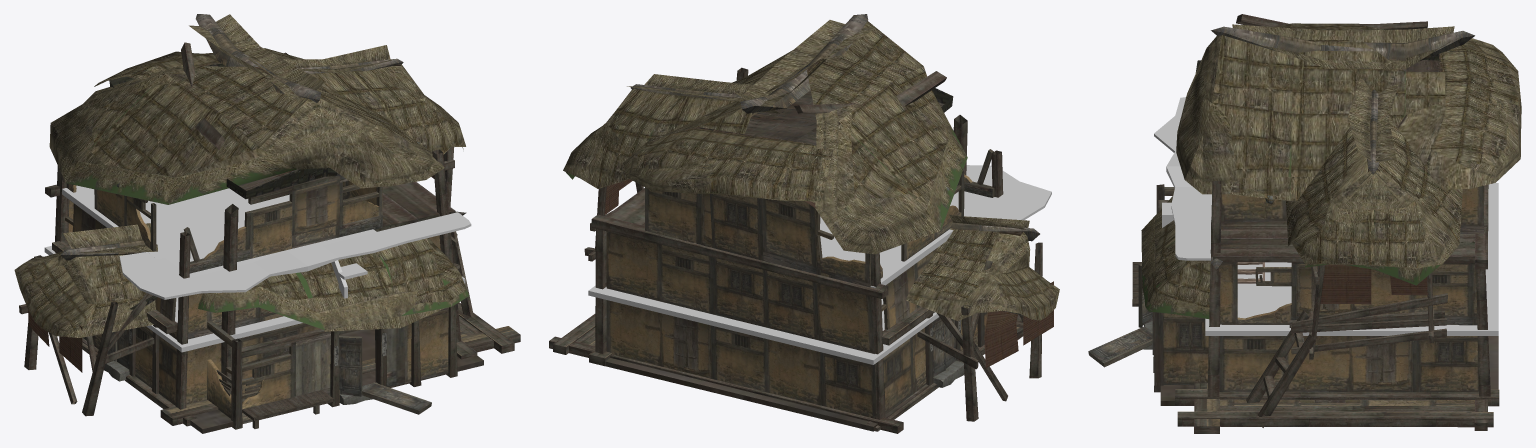
Rendered from solar home.fbx.
3 views of the same model, side by side, from view 1: azimuth 30°, elevation 25°; view 2: azimuth 150°, elevation 25°; view 3: azimuth 270°, elevation 25° (orthographic). The views are drawn at different scales.
Parts seen in each view (by area): view 1: cadnav.002, cadnav.001, outer path, floor3, floor1, floor2; view 2: cadnav.001, cadnav.002, floor2, floor1, outer path, floor3; view 3: cadnav.002, cadnav.001, floor2, outer path, floor1.
Boxes of the visible parts, bbox=[...] form: cadnav.002: bbox=[14, 14, 468, 420]; cadnav.001: bbox=[19, 14, 520, 429]; outer path: bbox=[119, 212, 471, 299]; floor3: bbox=[56, 185, 376, 278]; floor1: bbox=[82, 329, 483, 433]; floor2: bbox=[44, 245, 465, 352]; cadnav.001: bbox=[549, 14, 1042, 433]; cadnav.002: bbox=[563, 20, 1059, 367]; floor2: bbox=[588, 285, 939, 364]; floor1: bbox=[605, 314, 1020, 431]; outer path: bbox=[966, 165, 1051, 220]; floor3: bbox=[695, 191, 997, 287]; cadnav.002: bbox=[1132, 23, 1521, 318]; cadnav.001: bbox=[1088, 14, 1499, 433]; floor2: bbox=[1205, 183, 1498, 335]; outer path: bbox=[1154, 97, 1210, 260]; floor1: bbox=[1160, 336, 1498, 405].
Bounding box in the file's own units: 1906 × 1276 × 1553.
